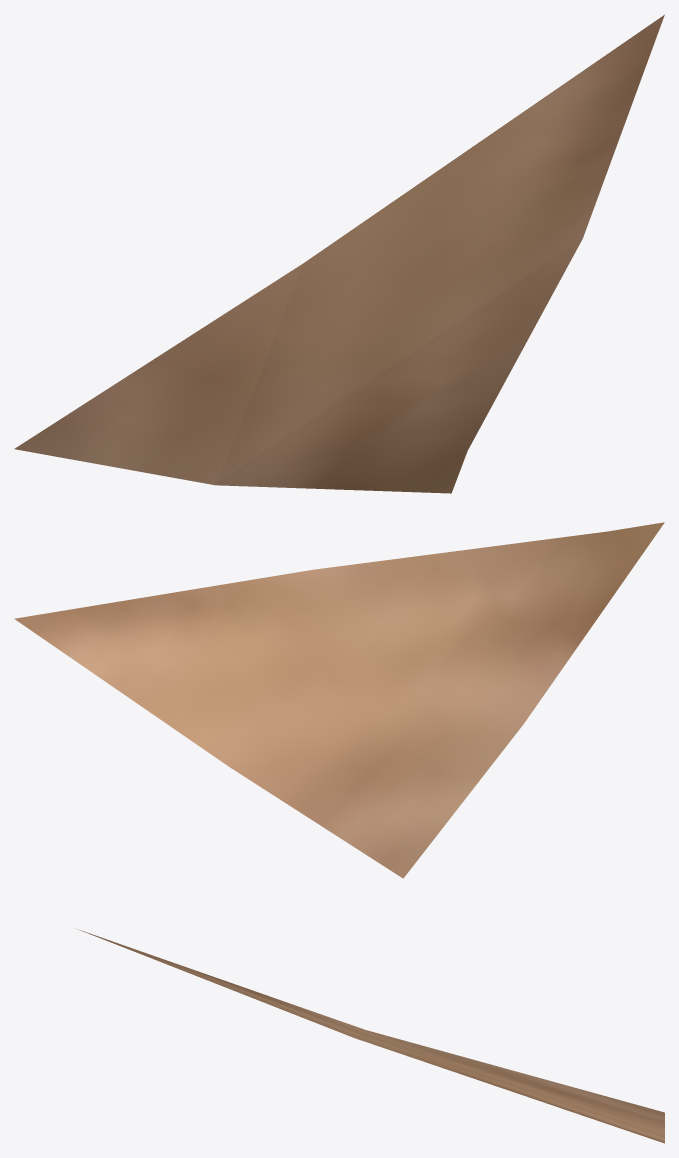
3 renders of one model, top to bottom at view 1: azimuth 30°, elevation 25°; view 2: azimuth 150°, elevation 25°; view 3: azimuth 270°, elevation 25°, orthographic. The views are drawn at different scales.
Size of the model in its own units: 0.0715 by 0.029 by 0.0833.
Materials: 1 (1 with a texture image).
